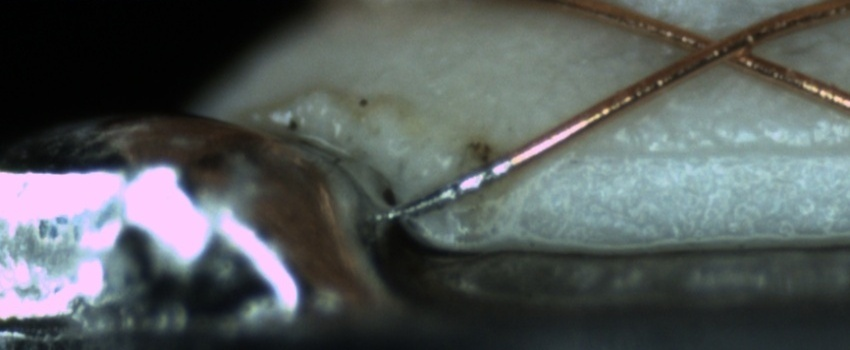CL: (654, 19, 777, 75)
DL: (576, 122, 849, 179)
TS: (389, 156, 514, 223)
